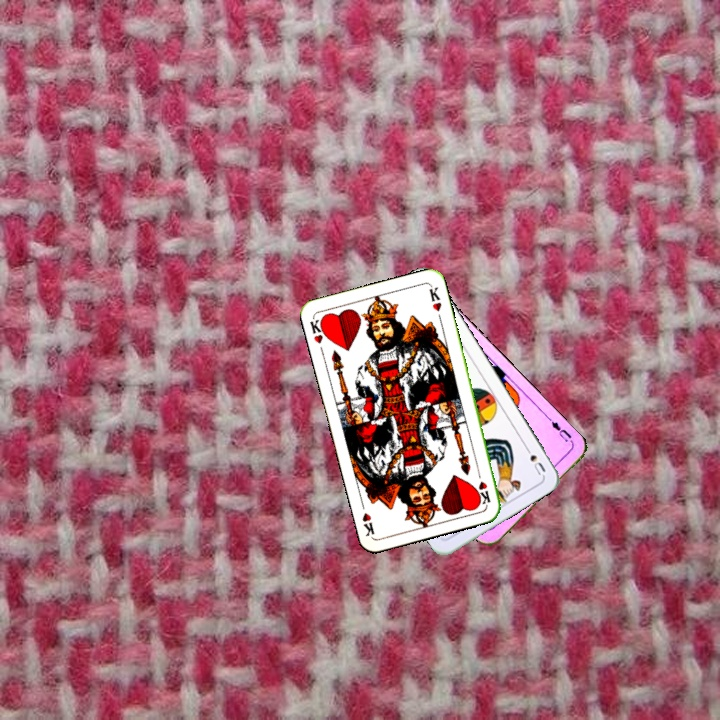EU: (546, 415, 574, 445)
HK: (473, 466, 493, 507), (306, 313, 330, 346)
SU: (520, 441, 548, 478)
